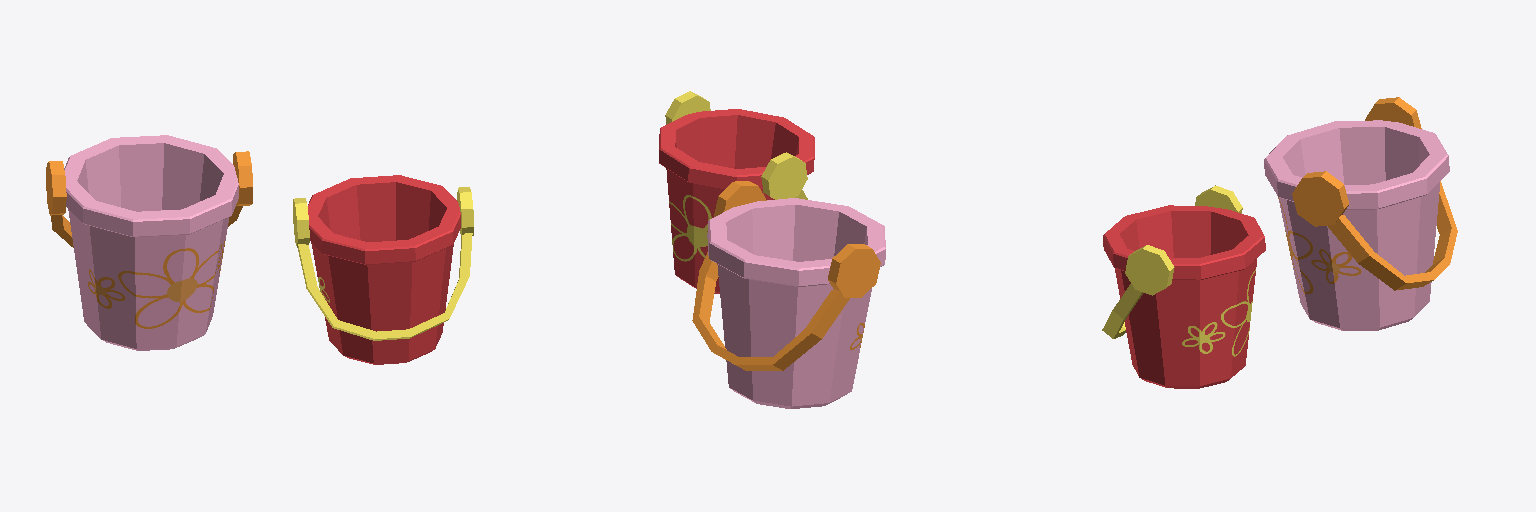
3 renders of one model, left to right at view 1: azimuth 30°, elevation 25°; view 2: azimuth 150°, elevation 25°; view 3: azimuth 270°, elevation 25°, orthographic.
Parts seen in each view (by area): view 1: cubetas:pCylinder12; view 2: cubetas:pCylinder12; view 3: cubetas:pCylinder12.
Boxes of the visible parts, x1,y1,x2,y2 form: cubetas:pCylinder12: [46, 135, 473, 364]; cubetas:pCylinder12: [659, 91, 885, 408]; cubetas:pCylinder12: [1102, 97, 1457, 388].
Bounding box in the file's own units: 2.49 × 1.31 × 2.43.
Materials: 2 (2 with a texture image).